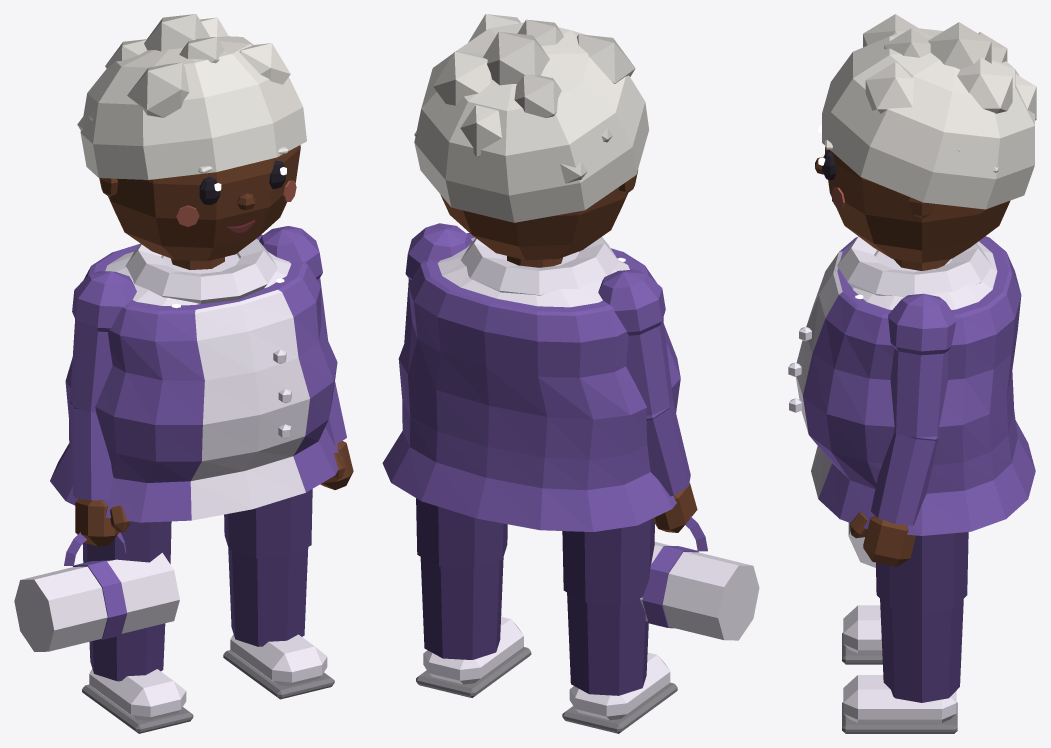
The model's file is aby-k3.glb.
3 views of the same model, side by side, from view 1: azimuth 30°, elevation 25°; view 2: azimuth 150°, elevation 25°; view 3: azimuth 270°, elevation 25° (orthographic). The views are drawn at different scales.
Parts seen in each view (by area): view 1: mantel, haare, gegenstand_travelbag, kopf, bein_l, arm_r, bein_r, kragen, schuh_l, schuh_r, arm_l, gesicht (+3 smaller); view 2: mantel, haare, bein_r, bein_l, gegenstand_travelbag, arm_r, kopf, kragen, schuh_r, schuh_l, torso, arm_l (+1 smaller); view 3: mantel, haare, bein_l, arm_l, kopf, schuh_l, kragen, hand_l, schuh_r, torso, gesicht, knöpfe (+1 smaller).
Part boxes in pixels (left/top/right/bottom): mantel: left=50, top=234, right=342, bottom=522; haare: left=77, top=14, right=306, bottom=179; gegenstand_travelbag: left=14, top=532, right=179, bottom=651; kopf: left=99, top=145, right=300, bottom=261; bein_l: left=224, top=489, right=312, bottom=646; arm_r: left=70, top=271, right=136, bottom=500; bein_r: left=82, top=521, right=171, bottom=681; kragen: left=125, top=238, right=277, bottom=303; schuh_l: left=223, top=634, right=334, bottom=699; schuh_r: left=82, top=669, right=193, bottom=733; arm_l: left=259, top=226, right=346, bottom=444; gesicht: left=176, top=147, right=296, bottom=232; mantel: left=382, top=233, right=680, bottom=531; haare: left=414, top=14, right=649, bottom=222; bein_r: left=562, top=518, right=654, bottom=695; bein_l: left=416, top=498, right=507, bottom=659; gegenstand_travelbag: left=640, top=516, right=759, bottom=640; arm_r: left=598, top=269, right=690, bottom=496; kopf: left=440, top=169, right=638, bottom=260; kragen: left=460, top=237, right=618, bottom=295; schuh_r: left=562, top=652, right=677, bottom=733; schuh_l: left=416, top=616, right=531, bottom=697; torso: left=437, top=237, right=629, bottom=307; arm_l: left=404, top=223, right=472, bottom=342; mantel: left=796, top=236, right=1035, bottom=535; haare: left=822, top=14, right=1036, bottom=209; bein_l: left=876, top=532, right=968, bottom=702; arm_l: left=871, top=293, right=955, bottom=525; kopf: left=825, top=148, right=1010, bottom=262; schuh_l: left=842, top=675, right=957, bottom=733; kragen: left=837, top=236, right=991, bottom=297; hand_l: left=850, top=512, right=915, bottom=566; schuh_r: left=842, top=605, right=882, bottom=664; torso: left=852, top=241, right=997, bottom=309; gesicht: left=815, top=125, right=844, bottom=209; knöpfe: left=788, top=327, right=811, bottom=412.
Bounding box in the file's own units: 0.0117 × 0.0233 × 0.00797.
